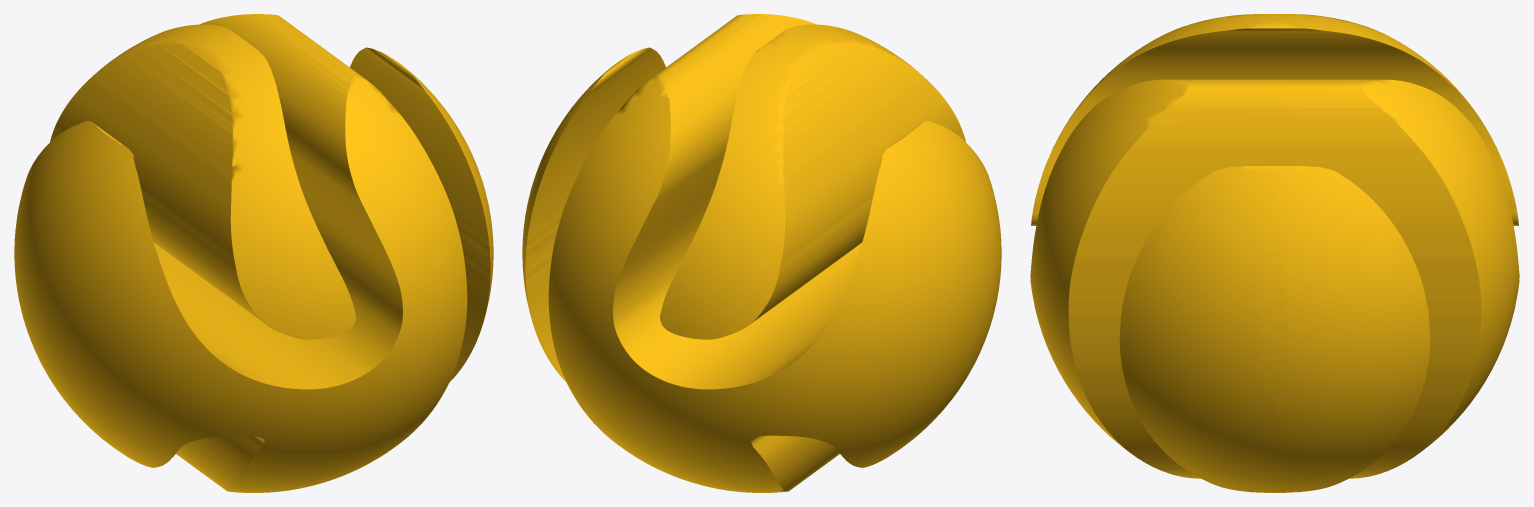
Rendered from sinhala_kw_globe_solid.obj.
3 views of the same model, side by side, from view 1: azimuth 30°, elevation 25°; view 2: azimuth 150°, elevation 25°; view 3: azimuth 270°, elevation 25° (orthographic). The views are drawn at different scales.
Parts seen in each view (by area): view 1: SinhalaKW_Globe_Solid; view 2: SinhalaKW_Globe_Solid; view 3: SinhalaKW_Globe_Solid.
Part boxes in pixels (x1,y1,x2,y2): SinhalaKW_Globe_Solid: [14, 14, 493, 492]; SinhalaKW_Globe_Solid: [522, 14, 1001, 492]; SinhalaKW_Globe_Solid: [1030, 14, 1519, 492].
Bounding box in the file's own units: 2 × 2 × 1.99.
